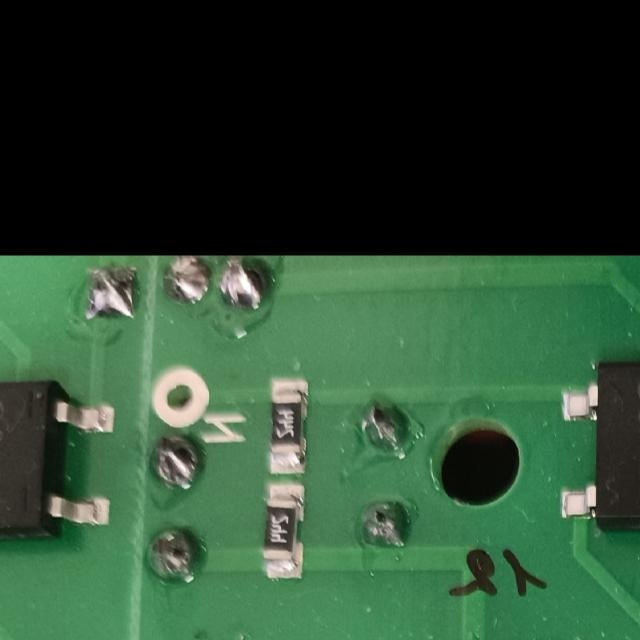chip-resistor: (263, 481, 306, 584), (266, 376, 306, 477)
ic: (0, 379, 115, 547)
